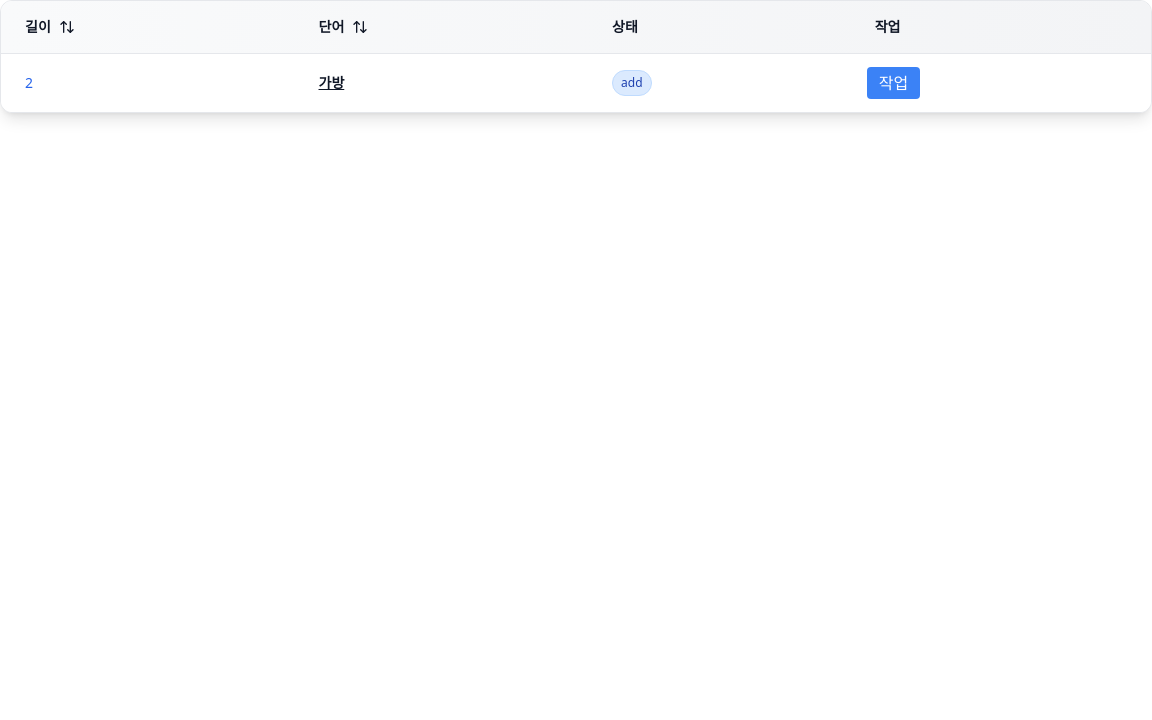
Test: Table administrator and legacy user actions › null target은 관리자 action을 표시하되 실행할 수 없게 한다
The image size is (1152, 720).
Click the button "작업" at (893, 83), box x1=867 y1=67 x2=920 y2=99
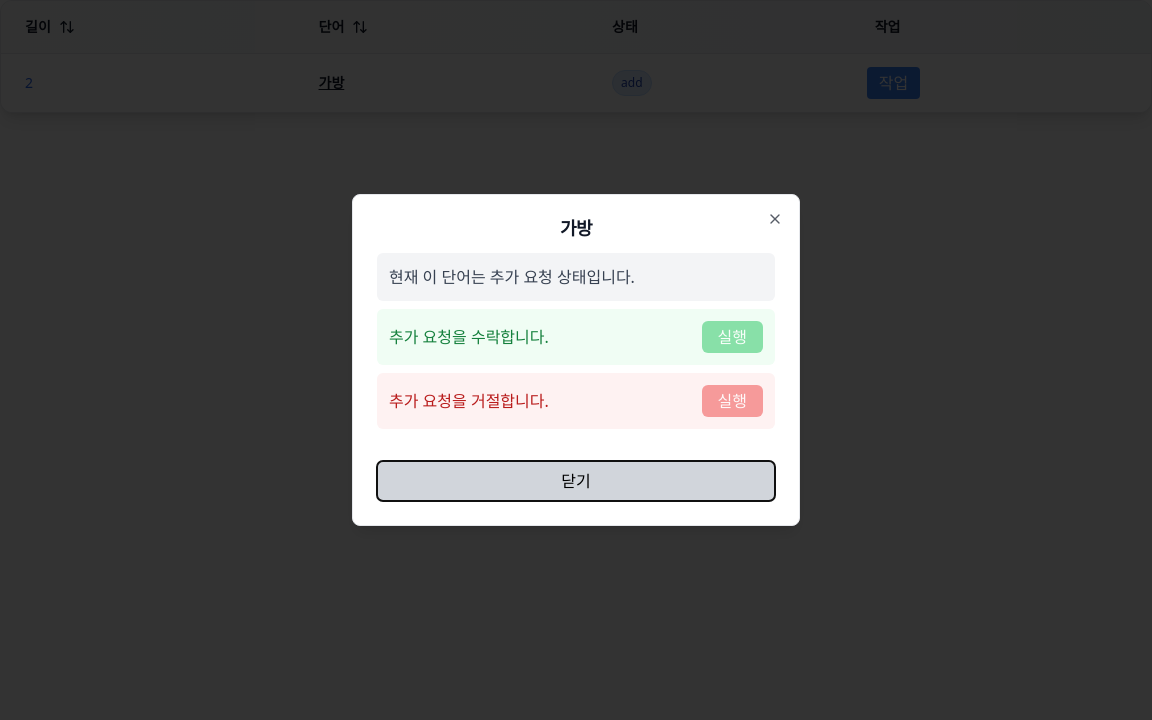
Now the button "실행" next to "추가 요청을 수락합니다." is disabled, box x1=702 y1=321 x2=763 y2=353
